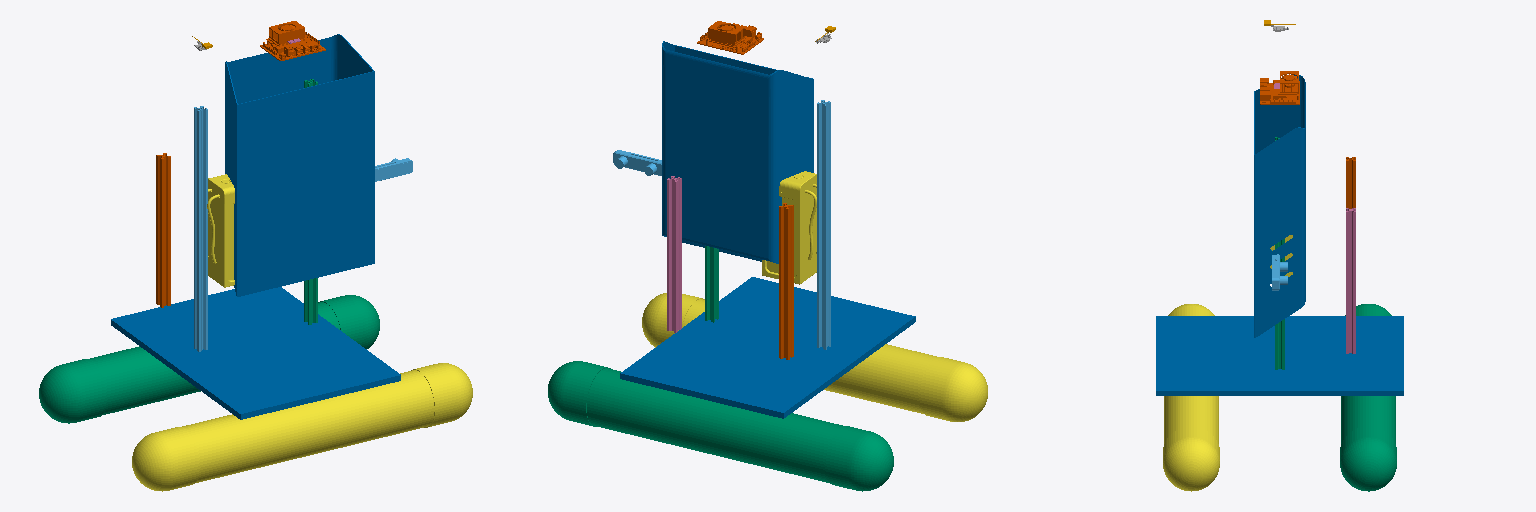
robot.urdf — asv_station_keeping_diag:
<?xml version='1.0' encoding='utf-8'?>
<robot name="asv_station_keeping_diag">
  <!-- Mesh-loading test only. Mounting poses are estimates, not Fusion occurrence transforms. 00_base has no visuals. -->
  <link name="base_footprint" />
  <link name="base_link">
    <inertial>
      <origin xyz="0 0 0" rpy="0 0 0" />
      <mass value="0.1" />
      <inertia ixx="0.0001" ixy="0" ixz="0" iyy="0.0001" iyz="0" izz="0.0001" />
    </inertial>
  </link>
  <link name="hull_left">
    <inertial>
      <origin xyz="0.0017543 -0.0000047 -0.0000010" rpy="0 0 0" />
      <mass value="8.7513272838" />
      <inertia ixx="0.0159438897" ixy="0" ixz="0" iyy="0.7485544942" iyz="0" izz="0.7485544942" />
    </inertial>
    <visual name="hull_left_visual">
      <origin xyz="-0.971730 0.357754 -1.641617" rpy="0 0 -1.57079632679" />
      <geometry>
        <mesh filename="package://asv_station_keeping/meshes/hull.stl" scale="0.001 0.001 0.001" />
      </geometry>
    </visual>
    <collision name="hull_left_collision">
      <geometry>
        <box size="0.724805 0.112973 0.112998" />
      </geometry>
    </collision>
  </link>
  <link name="hull_right">
    <inertial>
      <origin xyz="0.0017543 -0.0000047 -0.0000010" rpy="0 0 0" />
      <mass value="8.7513272838" />
      <inertia ixx="0.0159438897" ixy="0" ixz="0" iyy="0.7485544942" iyz="0" izz="0.7485544942" />
    </inertial>
    <visual name="hull_right_visual">
      <origin xyz="-0.971730 0.357754 -1.641617" rpy="0 0 -1.57079632679" />
      <geometry>
        <mesh filename="package://asv_station_keeping/meshes/hull.stl" scale="0.001 0.001 0.001" />
      </geometry>
    </visual>
    <collision name="hull_right_collision">
      <geometry>
        <box size="0.724805 0.112973 0.112998" />
      </geometry>
    </collision>
  </link>
  <link name="base_deck">
    <inertial>
      <origin xyz="0 0 0" rpy="0 0 0" />
      <mass value="16.1553" />
      <inertia ixx="0.3234344911" ixy="0" ixz="0" iyy="0.1651125511" iyz="0" izz="0.4881593150" />
    </inertial>
    <visual name="base_deck_visual">
      <origin xyz="-0.142254 -0.216347 -0.006000" rpy="1.57079632679 0 0" />
      <geometry>
        <mesh filename="package://asv_station_keeping/meshes/base_deck.stl" scale="0.001 0.001 0.001" />
      </geometry>
    </visual>
    <collision name="base_deck_collision">
      <geometry>
        <box size="0.350 0.490 0.012" />
      </geometry>
    </collision>
  </link>
  <link name="frame1_left">
    <inertial>
      <origin xyz="0 0 0" />
      <mass value="0.41469714" />
      <inertia ixx="0.00333785" ixy="0" ixz="0" iyy="0.00333785" iyz="0" izz="0.0000336422" />
    </inertial>
    <visual>
      <geometry>
        <mesh filename="package://asv_station_keeping/meshes/frame1.stl" scale="0.001 0.001 0.001" />
      </geometry>
    </visual>
    <collision>
      <geometry>
        <cylinder radius="0.010" length="0.310" />
      </geometry>
    </collision>
  </link>
  <link name="frame1_right">
    <inertial>
      <origin xyz="0 0 0" />
      <mass value="0.41469714" />
      <inertia ixx="0.00333785" ixy="0" ixz="0" iyy="0.00333785" iyz="0" izz="0.0000336422" />
    </inertial>
    <visual>
      <geometry>
        <mesh filename="package://asv_station_keeping/meshes/frame1.stl" scale="0.001 0.001 0.001" />
      </geometry>
    </visual>
    <collision>
      <geometry>
        <cylinder radius="0.010" length="0.310" />
      </geometry>
    </collision>
  </link>
  <link name="frame2_left">
    <inertial>
      <origin xyz="0 0 0" />
      <mass value="0.66886635" />
      <inertia ixx="0.01396185" ixy="0" ixz="0" iyy="0.01396185" iyz="0" izz="0.000054262" />
    </inertial>
    <visual>
      <geometry>
        <mesh filename="package://asv_station_keeping/meshes/frame2.stl" scale="0.001 0.001 0.001" />
      </geometry>
    </visual>
    <collision>
      <geometry>
        <cylinder radius="0.010" length="0.500" />
      </geometry>
    </collision>
  </link>
  <link name="frame2_right">
    <inertial>
      <origin xyz="0 0 0" />
      <mass value="0.66886635" />
      <inertia ixx="0.01396185" ixy="0" ixz="0" iyy="0.01396185" iyz="0" izz="0.000054262" />
    </inertial>
    <visual>
      <geometry>
        <mesh filename="package://asv_station_keeping/meshes/frame2.stl" scale="0.001 0.001 0.001" />
      </geometry>
    </visual>
    <collision>
      <geometry>
        <cylinder radius="0.010" length="0.500" />
      </geometry>
    </collision>
  </link>
  <link name="frame3_left">
    <inertial>
      <origin xyz="0 0 0" />
      <mass value="0.66886635" />
      <inertia ixx="0.01396185" ixy="0" ixz="0" iyy="0.01396185" iyz="0" izz="0.000054262" />
    </inertial>
    <visual>
      <geometry>
        <mesh filename="package://asv_station_keeping/meshes/frame3.stl" scale="0.001 0.001 0.001" />
      </geometry>
    </visual>
    <collision>
      <geometry>
        <cylinder radius="0.010" length="0.500" />
      </geometry>
    </collision>
  </link>
  <link name="frame3_right">
    <inertial>
      <origin xyz="0 0 0" />
      <mass value="0.66886635" />
      <inertia ixx="0.01396185" ixy="0" ixz="0" iyy="0.01396185" iyz="0" izz="0.000054262" />
    </inertial>
    <visual>
      <geometry>
        <mesh filename="package://asv_station_keeping/meshes/frame3.stl" scale="0.001 0.001 0.001" />
      </geometry>
    </visual>
    <collision>
      <geometry>
        <cylinder radius="0.010" length="0.500" />
      </geometry>
    </collision>
  </link>
  <link name="battery">
    <inertial>
      <origin xyz="0.011821 0 0.000846" />
      <mass value="8.29420474" />
      <inertia ixx="0.0317350" ixy="0" ixz="0.0000687" iyy="0.0339037" iyz="0" izz="0.00778636" />
    </inertial>
    <visual>
      <origin xyz="0.012244 -0.035000 -0.000150" />
      <geometry>
        <mesh filename="package://asv_station_keeping/meshes/battery.stl" scale="0.001 0.001 0.001" />
      </geometry>
    </visual>
    <collision>
      <geometry>
        <box size="0.109 0.070 0.202" />
      </geometry>
    </collision>
  </link>
  <link name="electronics">
    <inertial>
      <origin xyz="0 -0.005565 -0.000224" />
      <mass value="4.50915118" />
      <inertia ixx="0.0697094" ixy="0" ixz="0" iyy="0.1035140" iyz="-0.00452282" izz="0.0519051" />
    </inertial>
    <visual>
      <origin xyz="0 -0.051000 -0.023578" />
      <geometry>
        <mesh filename="package://asv_station_keeping/meshes/electronics.stl" scale="0.001 0.001 0.001" />
      </geometry>
    </visual>
    <collision>
      <geometry>
        <box size="0.300 0.102 0.447" />
      </geometry>
    </collision>
  </link>
  <link name="jetson_nano">
    <inertial>
      <origin xyz="-0.001623 0.002547 -0.004382" />
      <mass value="0.55767391" />
      <inertia ixx="0.00033845" ixy="0.000000893" ixz="0.00000257" iyy="0.00033690" iyz="-0.00004065" izz="0.00056875" />
    </inertial>
    <visual>
      <origin xyz="-0.004000 -0.007385 -0.025097" />
      <geometry>
        <mesh filename="package://asv_station_keeping/meshes/Jetson-Nano.stl" scale="0.001 0.001 0.001" />
      </geometry>
    </visual>
    <collision>
      <geometry>
        <box size="0.100 0.080 0.040" />
      </geometry>
    </collision>
  </link>
  <link name="imu_link">
    <inertial>
      <origin xyz="-0.00000256 0.00000402 0" />
      <mass value="0.00700317" />
      <inertia ixx="0.0000002895" ixy="0.000000000021" ixz="0" iyy="0.0000003634" iyz="0" izz="0.0000006497" />
    </inertial>
    <visual>
      <geometry>
        <mesh filename="package://asv_station_keeping/meshes/imu_Adafruit-BNO085-STEMMA-QT.step_Printed-Circuit-Board.step.stl" scale="0.001 0.001 0.001" />
      </geometry>
    </visual>
    <collision>
      <geometry>
        <box size="0.0254 0.0229 0.00165" />
      </geometry>
    </collision>
  </link>
  <link name="gps">
    <inertial>
      <origin xyz="0.000722 -0.000920 -0.001504" />
      <mass value="0.0120864" />
      <inertia ixx="0.0000007935" ixy="-0.0000001189" ixz="-0.0000000123" iyy="0.0000003115" iyz="-0.0000000289" izz="0.0000010352" />
    </inertial>
    <visual>
      <origin xyz="0.477241 -0.271714 -0.058863" />
      <geometry>
        <mesh filename="package://asv_station_keeping/meshes/gps.stl" scale="0.001 0.001 0.001" />
      </geometry>
    </visual>
    <collision>
      <geometry>
        <box size="0.018 0.038 0.010" />
      </geometry>
    </collision>
  </link>
  <link name="gps_antenna">
    <inertial>
      <origin xyz="0 -0.023073 0.000028" />
      <mass value="0.00977979" />
      <inertia ixx="0.0000006570" ixy="0" ixz="0" iyy="0.0000001906" iyz="0.0000000297" izz="0.0000007948" />
    </inertial>
    <visual>
      <origin xyz="0 -0.024375 -0.002900" />
      <geometry>
        <mesh filename="package://asv_station_keeping/meshes/gps_antenna.stl" scale="0.001 0.001 0.001" />
      </geometry>
    </visual>
    <collision>
      <geometry>
        <box size="0.015 0.064 0.006" />
      </geometry>
    </collision>
  </link>
  <link name="zed_camera">
    <inertial>
      <origin xyz="0.001495 -0.005480 -0.000004" />
      <mass value="0.43618915" />
      <inertia ixx="0.00004355" ixy="-0.00000770" ixz="0.000000005" iyy="0.00057262" iyz="0.000000007" izz="0.00057177" />
    </inertial>
    <visual>
      <origin xyz="0.002250 -0.015125 -0.000012" />
      <geometry>
        <mesh filename="package://asv_station_keeping/meshes/zed_camera.stl" scale="0.001 0.001 0.001" />
      </geometry>
    </visual>
    <collision>
      <geometry>
        <box size="0.125 0.030 0.027" />
      </geometry>
    </collision>
  </link>
  <joint name="base_footprint_to_base_link" type="fixed">
    <parent link="base_footprint" />
    <child link="base_link" />
    <origin xyz="0 0 0" rpy="0 0 0" />
  </joint>
  <joint name="base_to_hull_left" type="fixed">
    <parent link="base_link" />
    <child link="hull_left" />
    <origin xyz="0 0.175 0.055" rpy="0 0 0" />
  </joint>
  <joint name="base_to_hull_right" type="fixed">
    <parent link="base_link" />
    <child link="hull_right" />
    <origin xyz="0 -0.175 0.055" rpy="0 0 0" />
  </joint>
  <joint name="base_to_base_deck" type="fixed">
    <parent link="base_link" />
    <child link="base_deck" />
    <origin xyz="0 0 0.145" rpy="0 0 0" />
  </joint>
  <joint name="deck_to_frame1_left" type="fixed">
    <parent link="base_deck" />
    <child link="frame1_left" />
    <origin xyz="-0.12 0.14 0.22" />
  </joint>
  <joint name="deck_to_frame1_right" type="fixed">
    <parent link="base_deck" />
    <child link="frame1_right" />
    <origin xyz="0.12 0.14 0.22" />
  </joint>
  <joint name="deck_to_frame2_left" type="fixed">
    <parent link="base_deck" />
    <child link="frame2_left" />
    <origin xyz="-0.12 -0.14 0.28" />
  </joint>
  <joint name="deck_to_frame2_right" type="fixed">
    <parent link="base_deck" />
    <child link="frame2_right" />
    <origin xyz="0.12 -0.14 0.28" />
  </joint>
  <joint name="deck_to_frame3_left" type="fixed">
    <parent link="base_deck" />
    <child link="frame3_left" />
    <origin xyz="-0.12 0 0.28" />
  </joint>
  <joint name="deck_to_frame3_right" type="fixed">
    <parent link="base_deck" />
    <child link="frame3_right" />
    <origin xyz="0.12 0 0.28" />
  </joint>
  <joint name="deck_to_battery" type="fixed">
    <parent link="base_deck" />
    <child link="battery" />
    <origin xyz="-0.06 0 0.265" />
  </joint>
  <joint name="deck_to_electronics" type="fixed">
    <parent link="base_deck" />
    <child link="electronics" />
    <origin xyz="0.08 0 0.370" />
  </joint>
  <joint name="electronics_to_jetson" type="fixed">
    <parent link="electronics" />
    <child link="jetson_nano" />
    <origin xyz="0 0 0.255" />
  </joint>
  <joint name="electronics_to_imu" type="fixed">
    <parent link="electronics" />
    <child link="imu_link" />
    <origin xyz="0 0 0.255" />
  </joint>
  <joint name="deck_to_gps" type="fixed">
    <parent link="base_deck" />
    <child link="gps" />
    <origin xyz="-0.12 0 0.66" />
  </joint>
  <joint name="gps_to_antenna" type="fixed">
    <parent link="gps" />
    <child link="gps_antenna" />
    <origin xyz="0 0 0.010" />
  </joint>
  <joint name="deck_to_zed_camera" type="fixed">
    <parent link="base_deck" />
    <child link="zed_camera" />
    <origin xyz="0.27 0 0.31" rpy="0 0 0" />
  </joint>
</robot>

--- Facts derived from the render (not from the file) ---
3 views of the same robot in one strip: view 1: azimuth 30°, elevation 25°; view 2: azimuth 150°, elevation 25°; view 3: azimuth 270°, elevation 25° (orthographic).
Robot: asv_station_keeping_diag — 18 links, 17 joints (17 fixed); root link base_footprint; default pose: all joints at 0.
Visible links, largest first — view 1: electronics, base_deck, hull_right, hull_left, frame3_left, battery, frame1_left, jetson_nano, frame3_right, zed_camera; view 2: electronics, base_deck, hull_left, hull_right, frame3_left, battery, frame1_left, frame1_right, jetson_nano, frame3_right, zed_camera; view 3: base_deck, electronics, hull_right, hull_left, frame1_right, jetson_nano, frame3_right.
Boxes of the visible links, left/top/right/bottom form: electronics: left=225, top=34, right=374, bottom=296; base_deck: left=111, top=287, right=400, bottom=419; hull_right: left=132, top=363, right=472, bottom=491; hull_left: left=39, top=295, right=379, bottom=423; frame3_left: left=194, top=106, right=207, bottom=351; battery: left=207, top=174, right=234, bottom=287; frame1_left: left=156, top=153, right=170, bottom=307; jetson_nano: left=260, top=21, right=325, bottom=60; frame3_right: left=304, top=79, right=317, bottom=324; zed_camera: left=375, top=158, right=412, bottom=181; electronics: left=662, top=41, right=813, bottom=263; base_deck: left=620, top=277, right=915, bottom=418; hull_left: left=548, top=361, right=893, bottom=491; hull_right: left=642, top=293, right=987, bottom=421; frame3_left: left=817, top=100, right=830, bottom=349; battery: left=762, top=171, right=816, bottom=284; frame1_left: left=779, top=203, right=793, bottom=359; frame1_right: left=667, top=176, right=681, bottom=332; jetson_nano: left=697, top=21, right=763, bottom=54; frame3_right: left=705, top=246, right=718, bottom=322; zed_camera: left=613, top=150, right=661, bottom=175; base_deck: left=1156, top=316, right=1403, bottom=395; electronics: left=1254, top=75, right=1305, bottom=337; hull_right: left=1163, top=304, right=1219, bottom=491; hull_left: left=1340, top=304, right=1396, bottom=491; frame1_right: left=1346, top=208, right=1355, bottom=353; jetson_nano: left=1260, top=71, right=1299, bottom=104; frame3_right: left=1275, top=137, right=1284, bottom=369.
Bounding box of the posed robot: 0.7248 × 0.49 × 0.8194 m (x, y, z).
14 mesh visuals loaded from 12 distinct referenced files (11 binary STL); not drawn: 2 (reference not matched to a file when rendering).
